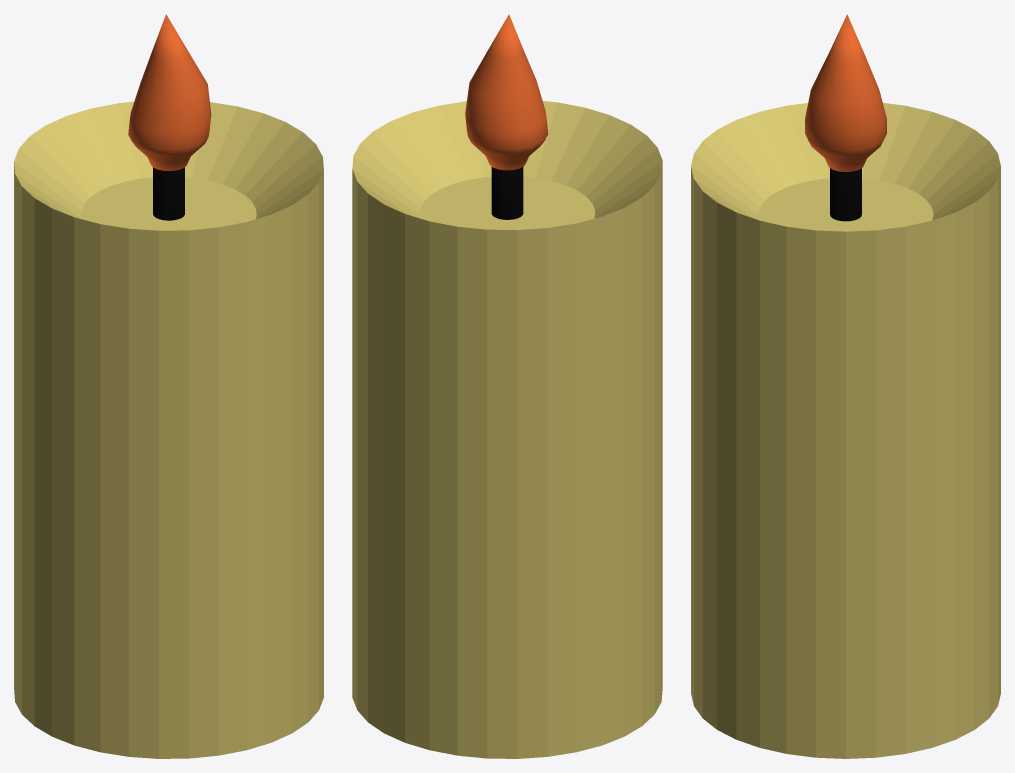
The model's file is Candle.glb.
3 renders of one model, left to right at view 1: azimuth 30°, elevation 25°; view 2: azimuth 150°, elevation 25°; view 3: azimuth 270°, elevation 25°, orthographic.
Parts seen in each view (by area): view 1: Candle, Flame, Trigger; view 2: Candle, Flame, Trigger; view 3: Candle, Flame, Trigger.
Boxes of the visible parts, bbox=[...] form: Candle: bbox=[14, 101, 323, 758]; Flame: bbox=[128, 14, 211, 170]; Trigger: bbox=[153, 167, 184, 220]; Candle: bbox=[352, 101, 662, 758]; Flame: bbox=[465, 14, 548, 170]; Trigger: bbox=[491, 167, 523, 219]; Candle: bbox=[691, 103, 1000, 758]; Flame: bbox=[805, 14, 886, 171]; Trigger: bbox=[830, 168, 861, 221].
Size of the model in its own units: 0.2007 by 0.4846 by 0.2007.
